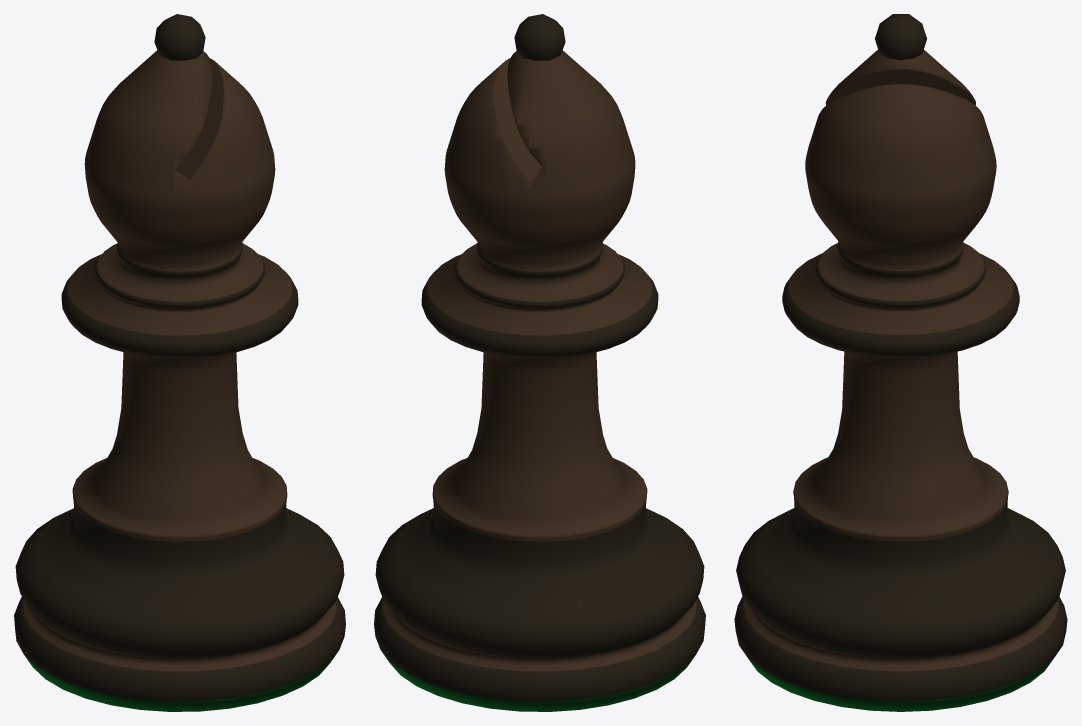
File: BishopBlack.fbx
3 views of the same model, side by side, from view 1: azimuth 30°, elevation 25°; view 2: azimuth 150°, elevation 25°; view 3: azimuth 270°, elevation 25° (orthographic).
Visible parts, largest first — view 1: Black Bishop K; view 2: Black Bishop K; view 3: Black Bishop K.
Part boxes in pixels (left/top/right/bottom): Black Bishop K: left=14, top=14, right=345, bottom=711; Black Bishop K: left=374, top=14, right=705, bottom=711; Black Bishop K: left=734, top=14, right=1067, bottom=711.
Bounding box in the file's own units: 4.01 × 8.39 × 4.01.
